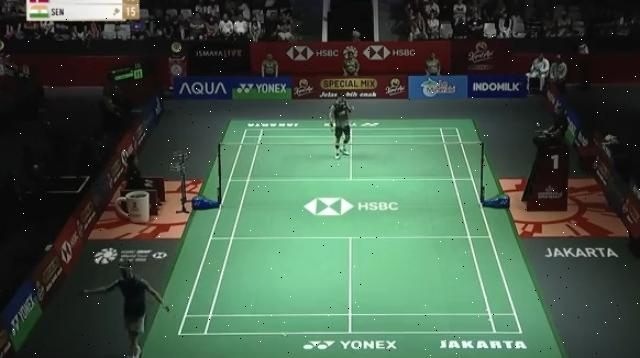Shuttlecock: (280, 329, 290, 339)
